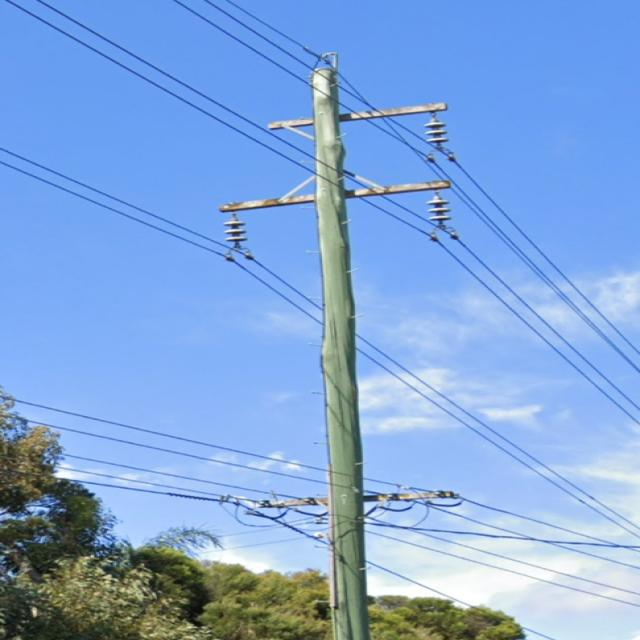HV-transmission: (221, 54, 454, 262)
crossarm: (217, 178, 448, 213), (266, 96, 448, 130), (248, 486, 453, 506)
timber-pole: (306, 66, 367, 640)
